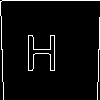H: (25, 25, 58, 71)
